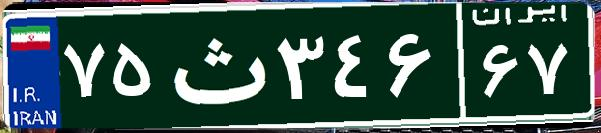3: (273, 28, 330, 110)
4: (330, 28, 385, 110)
5: (110, 28, 158, 105)
6: (385, 28, 445, 110), (475, 38, 525, 113)
7: (57, 26, 110, 107), (525, 38, 570, 115)
ث: (158, 15, 273, 115)
